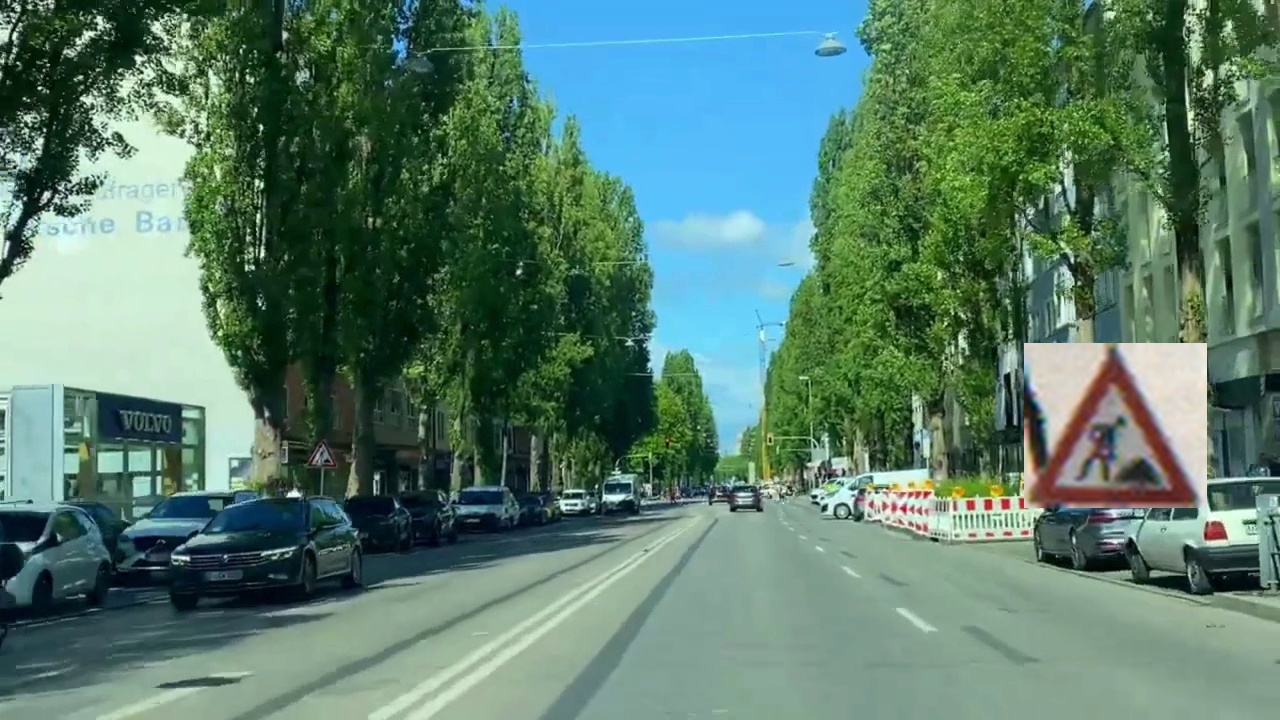Road work: (1024, 343, 1207, 508)
